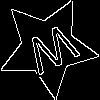W: (22, 22, 85, 84)
